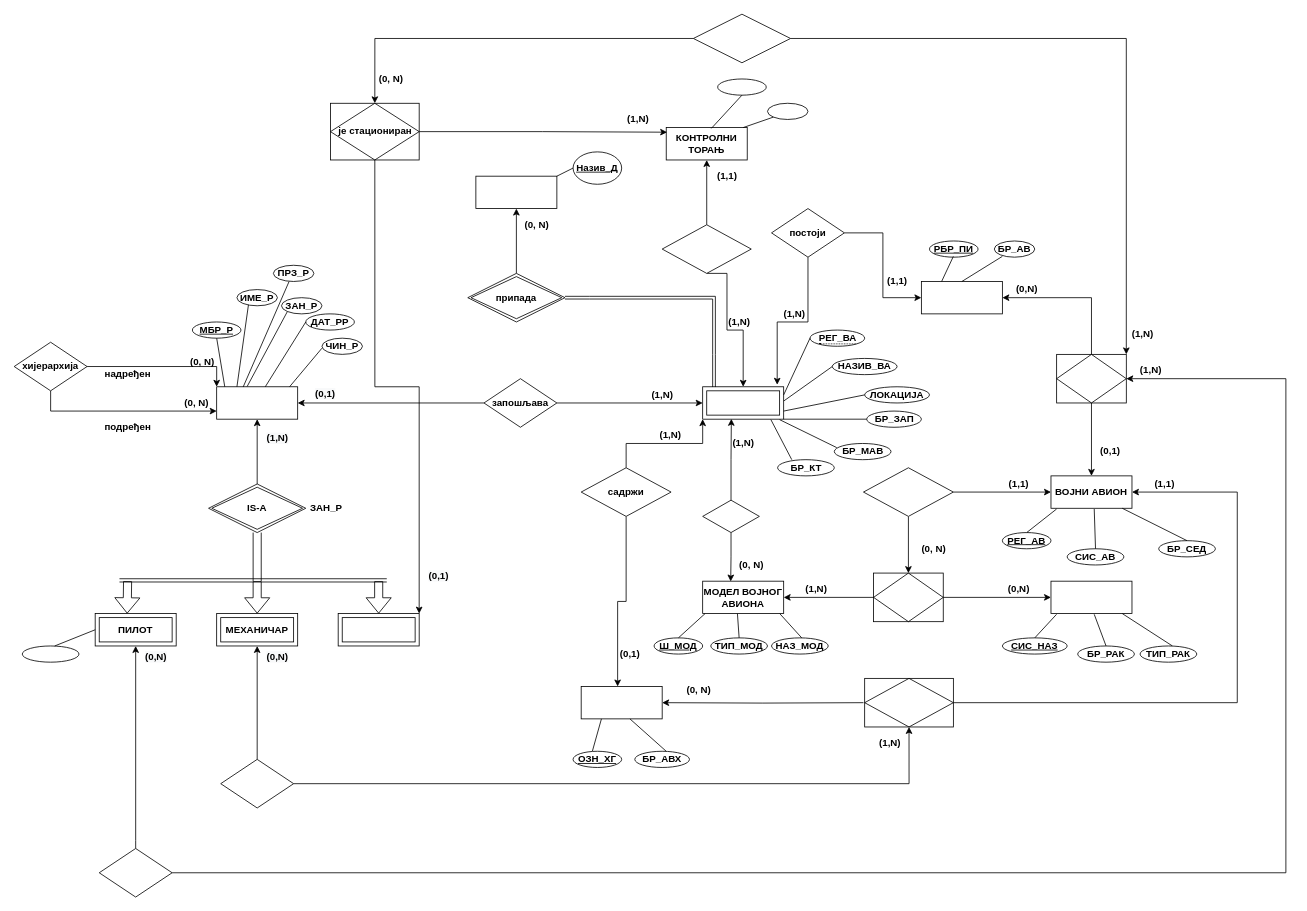
Image size: 1307x911. Some labels were removed from this diagram. Here are the shapes that lost their labels. From the top down, the centre of each, then its label:
At (x=742, y=38): "води рачуна".
At (x=741, y=86): "ОЗН_КТ".
At (x=787, y=110): "БР_КЛ".
At (x=516, y=192): "ДРЖАВА".
At (x=706, y=248): "су изграђени".
At (x=961, y=297): "ПИСТА ЗА ЛЕТЕЊЕ".
At (x=1091, y=378): "налази се".
At (x=257, y=402): "РАДНИК".
At (x=743, y=402): "ВОЈНИ АЕРОДРОМ".
At (x=908, y=491): "представља".
At (x=730, y=516): "има".
At (x=908, y=597): "веже се".
At (x=1091, y=597): "СИСТЕМ НАОРУЖАЊА".
At (x=378, y=629): "КОНТРОЛОР ЛЕТА".
At (x=50, y=653): "БР_ЛЕТ".
At (x=621, y=702): "ХАНГАР".
At (x=908, y=702): "складишти".
At (x=257, y=783): "одржава".
At (x=135, y=872): "лети".
